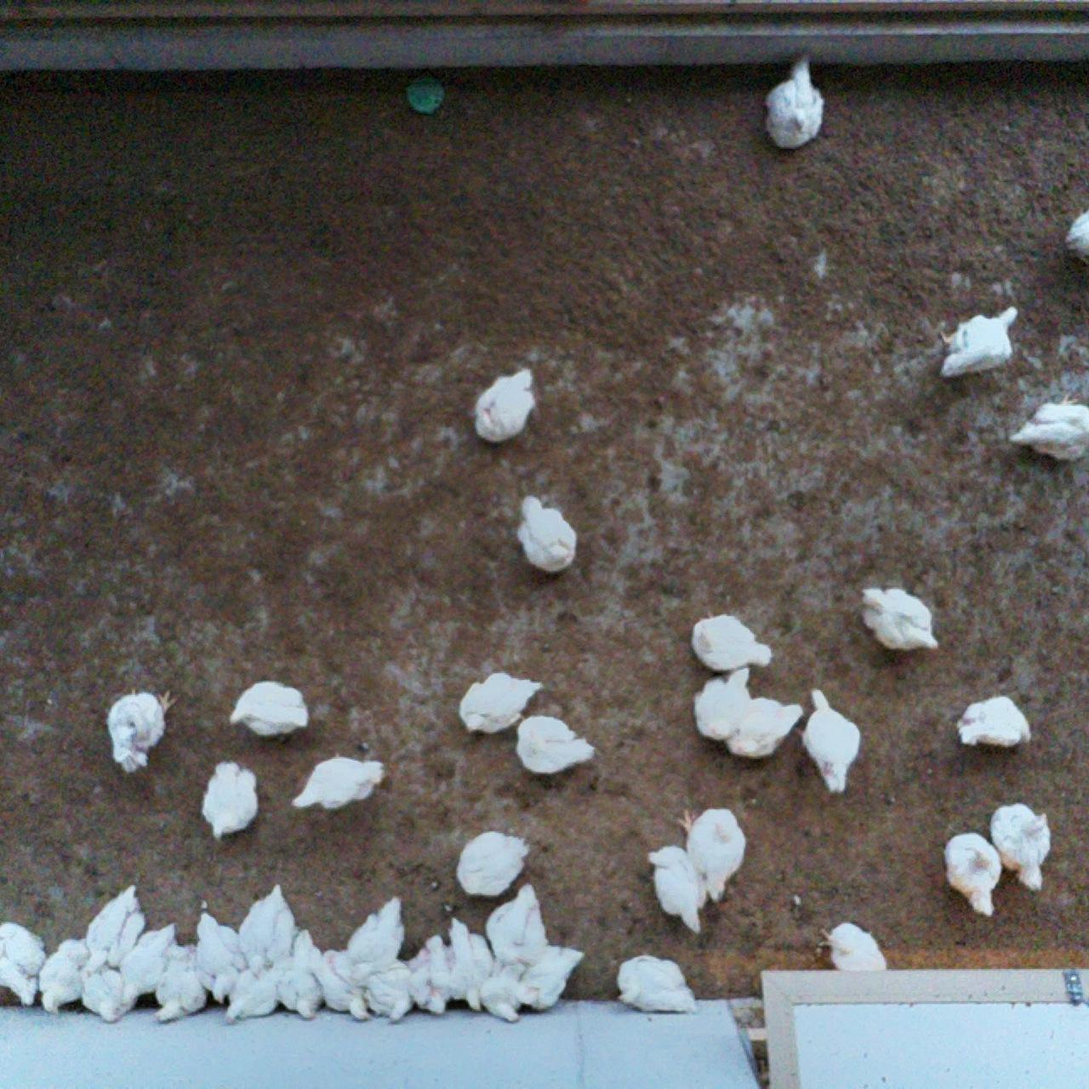chicken: (936, 302, 1019, 385), (677, 804, 745, 905), (803, 686, 864, 794), (763, 54, 828, 155), (644, 842, 713, 933), (84, 879, 150, 974), (986, 802, 1050, 897), (615, 949, 704, 1017), (457, 667, 543, 737), (1006, 396, 1089, 468), (469, 363, 540, 447), (938, 829, 1005, 918), (341, 894, 409, 981), (105, 688, 176, 771), (238, 881, 298, 978), (485, 882, 551, 970), (859, 584, 942, 653), (290, 753, 390, 810), (453, 828, 531, 901), (266, 928, 329, 1017), (717, 696, 804, 760), (513, 714, 600, 777), (686, 612, 774, 673), (516, 496, 582, 577), (444, 920, 500, 1015), (145, 939, 207, 1024), (218, 960, 295, 1025), (231, 678, 309, 740), (955, 692, 1035, 752), (35, 934, 94, 1014), (191, 911, 242, 1003), (693, 668, 755, 742), (816, 917, 891, 978), (122, 921, 183, 996), (0, 916, 48, 1010), (201, 760, 257, 840), (313, 944, 369, 1024), (520, 943, 587, 1009), (408, 933, 462, 1011), (75, 967, 138, 1028), (361, 958, 420, 1018), (471, 962, 525, 1022), (1063, 206, 1089, 269)
